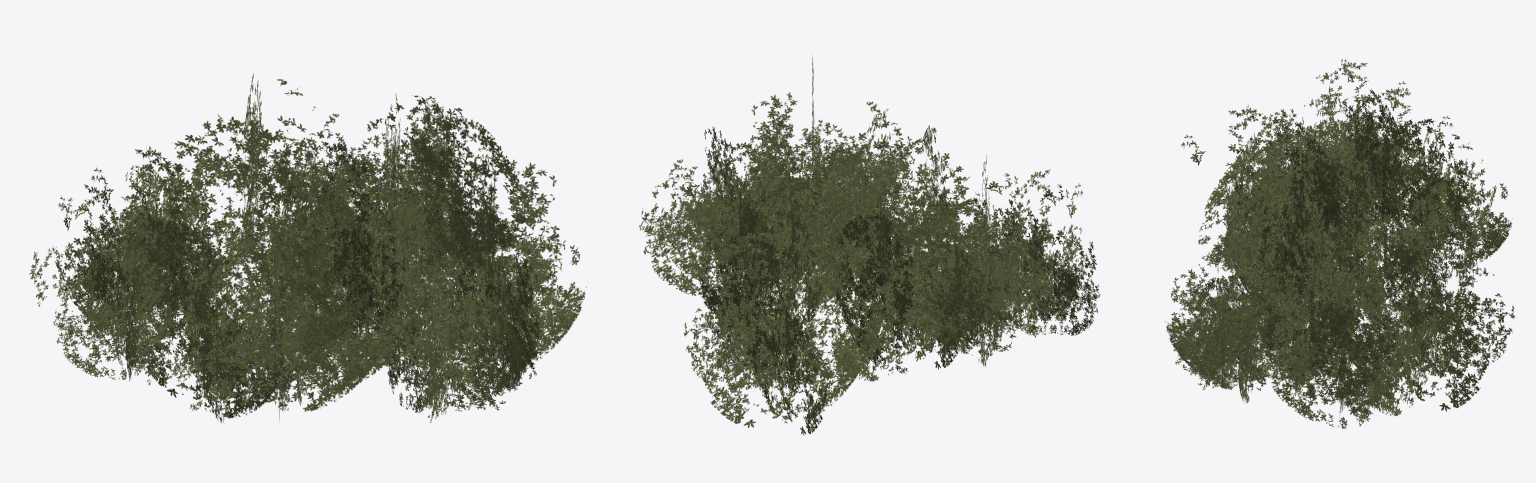
Rendered from shrub-hedge.glb.
3 views of the same model, side by side, from view 1: azimuth 30°, elevation 25°; view 2: azimuth 150°, elevation 25°; view 3: azimuth 270°, elevation 25° (orthographic). The views are drawn at different scales.
Visible parts, largest first — view 1: ShrubHedge; view 2: ShrubHedge; view 3: ShrubHedge.
Boxes of the visible parts, x1=… form: ShrubHedge: x1=29, y1=73, x2=586, y2=422; ShrubHedge: x1=639, y1=57, x2=1100, y2=435; ShrubHedge: x1=1165, y1=59, x2=1514, y2=428.
Bounding box in the file's own units: 2.72 × 1.78 × 2.07.
3 materials, 3 textured.
